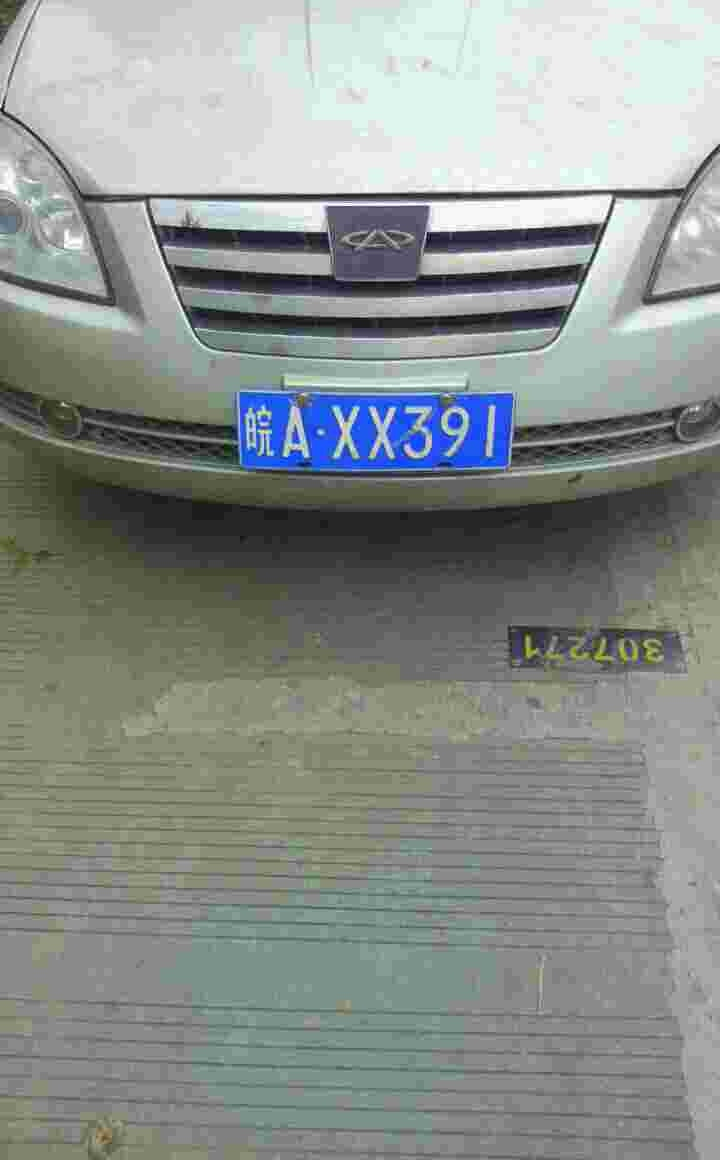license_plate: (238, 389, 515, 479)
